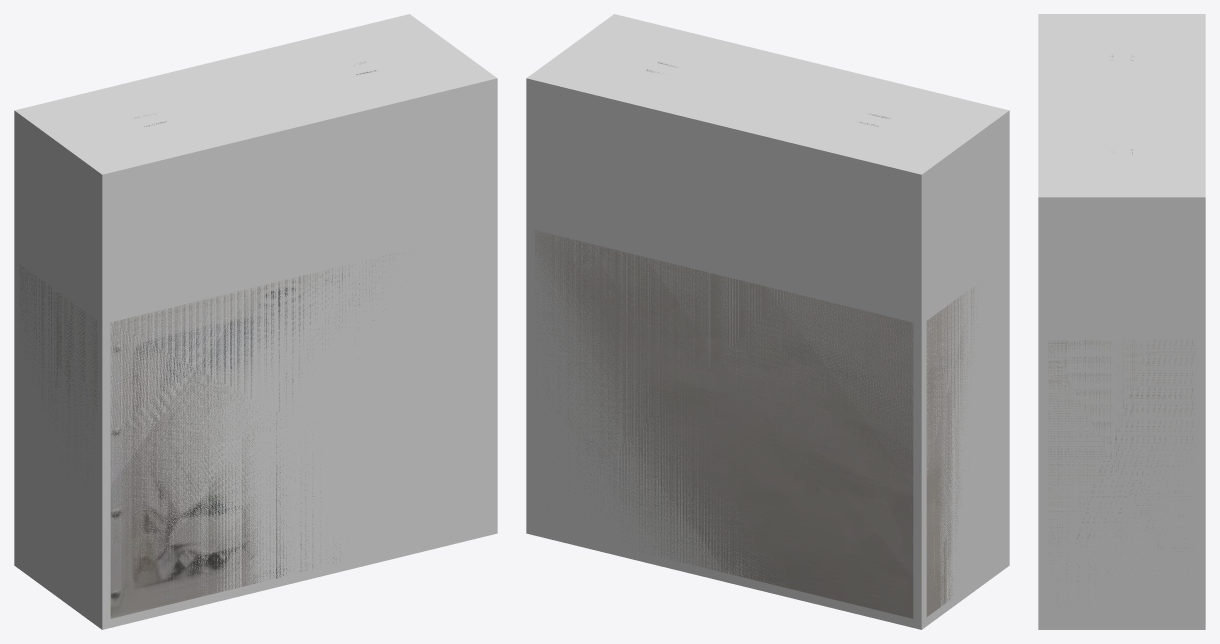
The model's file is crew-lock-bag.glb.
3 renders of one model, left to right at view 1: azimuth 30°, elevation 25°; view 2: azimuth 150°, elevation 25°; view 3: azimuth 270°, elevation 25°, orthographic. The views are drawn at different scales.
Parts seen in each view (by area): view 1: COL_crew-lock-bag, crew-lock-bag; view 2: COL_crew-lock-bag, crew-lock-bag; view 3: COL_crew-lock-bag, crew-lock-bag.
Boxes of the visible parts, left/top/right/bottom form: COL_crew-lock-bag: left=14, top=14, right=497, bottom=629; crew-lock-bag: left=19, top=61, right=403, bottom=618; COL_crew-lock-bag: left=526, top=14, right=1009, bottom=629; crew-lock-bag: left=535, top=61, right=978, bottom=618; COL_crew-lock-bag: left=1038, top=14, right=1205, bottom=629; crew-lock-bag: left=1048, top=54, right=1195, bottom=601.
Bounding box in the file's own units: 0.3569 × 0.3928 × 0.1374.
1 material, 1 textured.
